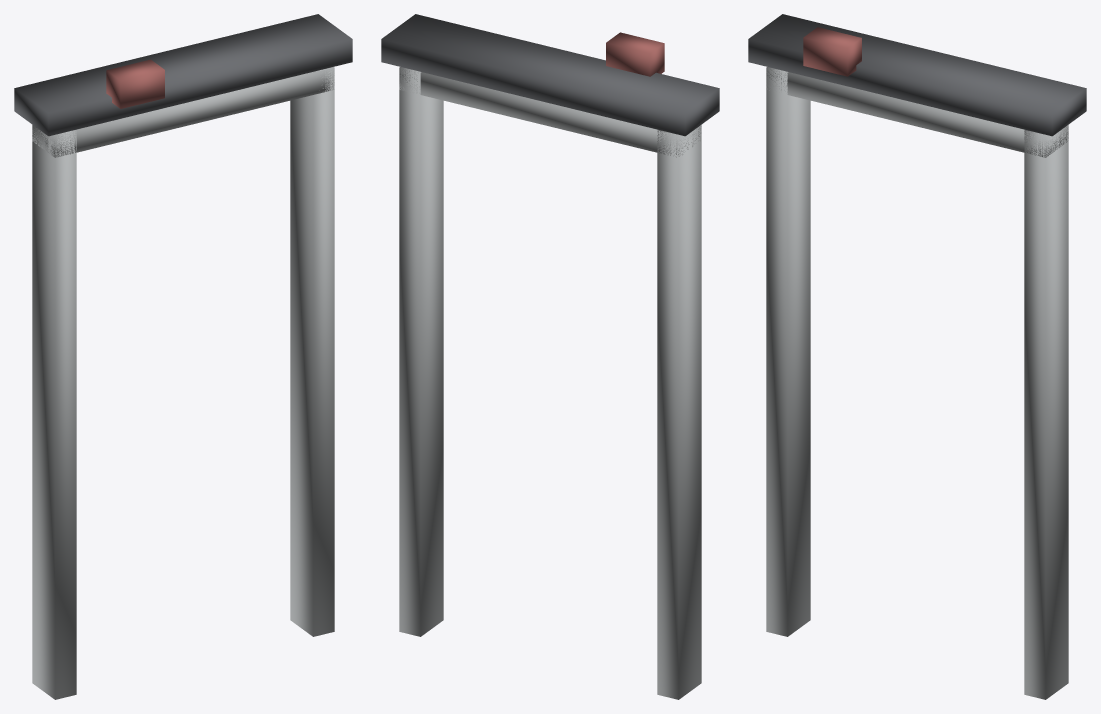
Rendered from doorway_fire_rated_w96_h210_d16.glb.
3 views of the same model, side by side, from view 1: azimuth 30°, elevation 25°; view 2: azimuth 150°, elevation 25°; view 3: azimuth 330°, elevation 25° (orthographic).
Parts seen in each view (by area): view 1: world; view 2: world; view 3: world.
Boxes of the visible parts, <box> form: world: <box>14,14,352,699</box>; world: <box>381,14,719,699</box>; world: <box>748,14,1086,699</box>.
Size of the model in its own units: 1.23 by 2.39 by 0.3.
